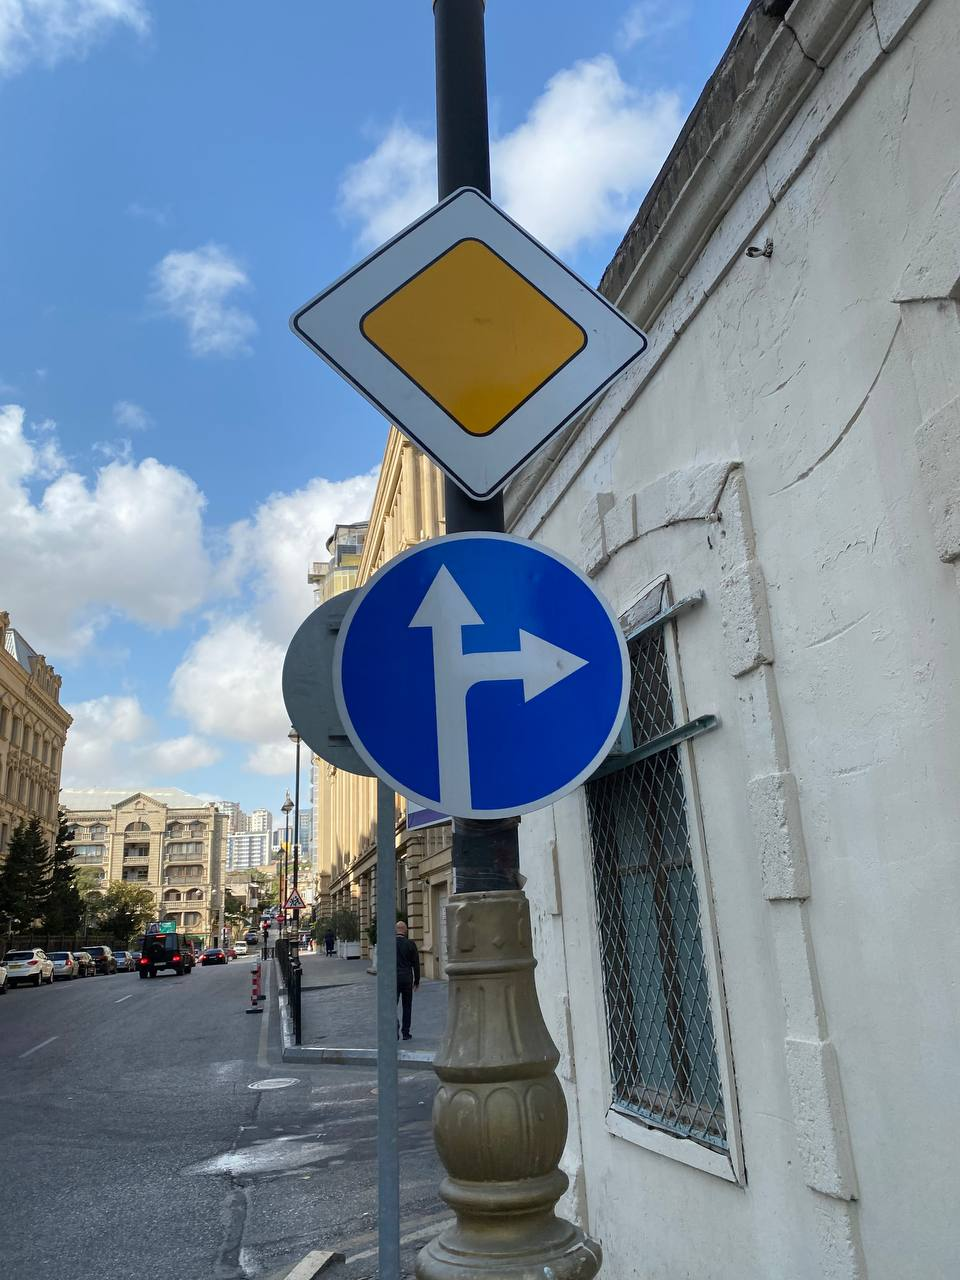Main Road: (289, 185, 649, 500)
Straight or Right: (337, 531, 634, 821)
